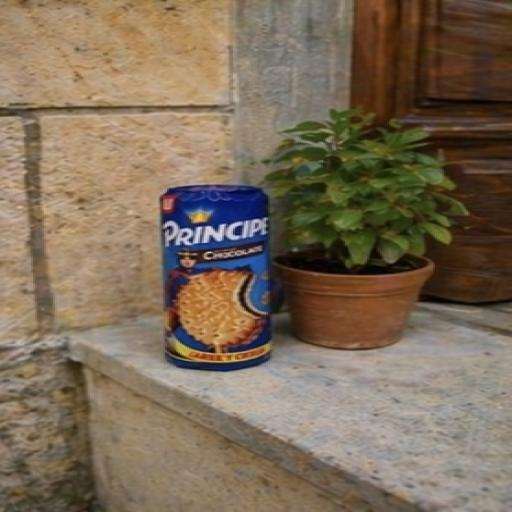prince: (69, 133, 458, 454)
